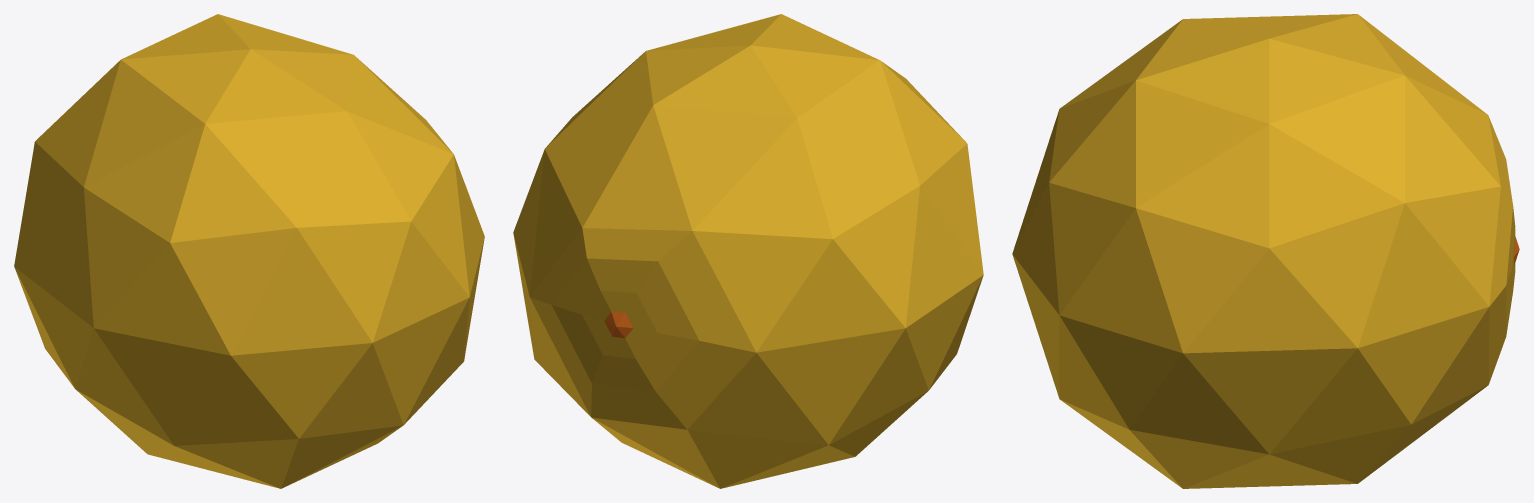
File: melon.fbx
3 views of the same model, side by side, from view 1: azimuth 30°, elevation 25°; view 2: azimuth 150°, elevation 25°; view 3: azimuth 270°, elevation 25° (orthographic). The views are drawn at different scales.
Visible parts, largest first — view 1: Icosphere; view 2: Icosphere; view 3: Icosphere.
Part boxes in pixels (x1,y1,x2,y2): Icosphere: (14,14,484,488); Icosphere: (513,14,983,488); Icosphere: (1012,14,1519,488).
Size of the model in its own units: 307 by 311 by 330.
